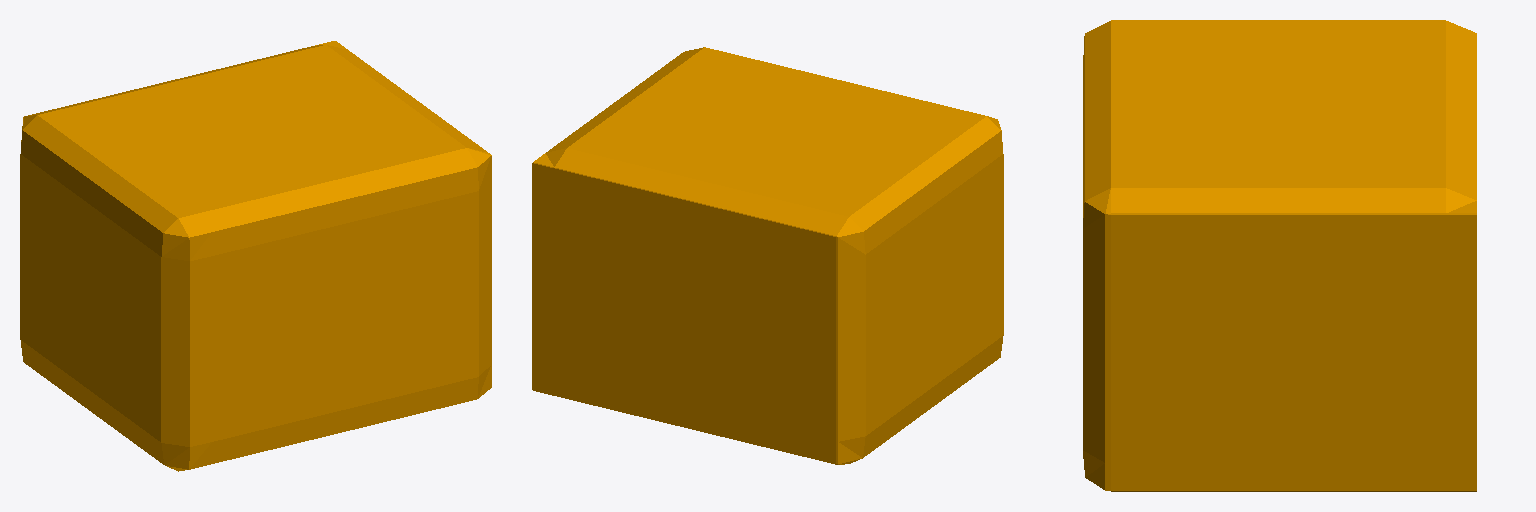
URDF robot description (cylinder_box_62):
<?xml version="1.0" encoding="utf-8"?>  <robot name="cylinder_box_62">   <link name="cylinder_box_62">     <visual>       <geometry>         <mesh filename="../meshes/box/box_62.stl" scale="1 1 1"/>       </geometry>     </visual>     <collision>       <geometry>         <mesh filename="../meshes/box/box_62.stl" scale="1 1 1"/>       </geometry>     </collision>     <inertial>        <origin         xyz="0 0 0"         rpy="0 0 0" />       <mass value="0.2559832535777272"/>       <origin rpy="0 0 0" xyz="0 0 0"/>       <inertia ixx="0.00014944597933568663" ixy="-5.204411912342447e-07" ixz="4.6231753951452136e-08" iyy="0.00017625505852182806" iyz="2.490552655624594e-08" izz="0.00020168162019359813"/>     </inertial>   </link>  </robot>

--- Facts derived from the render (not from the file) ---
Views: 3 orthographic renders of the robot side by side, from view 1: azimuth 30°, elevation 25°; view 2: azimuth 150°, elevation 25°; view 3: azimuth 270°, elevation 25°.
Model cylinder_box_62 with 1 links and 0 joints (none), rooted at cylinder_box_62, posed all joints at 0.
Visible links, largest first — view 1: cylinder_box_62; view 2: cylinder_box_62; view 3: cylinder_box_62.
Link boxes in pixels (x1=…): cylinder_box_62: x1=20, y1=41, x2=491, y2=471; cylinder_box_62: x1=532, y1=47, x2=1003, y2=464; cylinder_box_62: x1=1083, y1=20, x2=1476, y2=491.
Size in the robot's own frame: 0.0739 by 0.0647 by 0.0545 metres.
Meshes: 1 distinct files referenced, 1 mesh visuals loaded (1 binary STL).